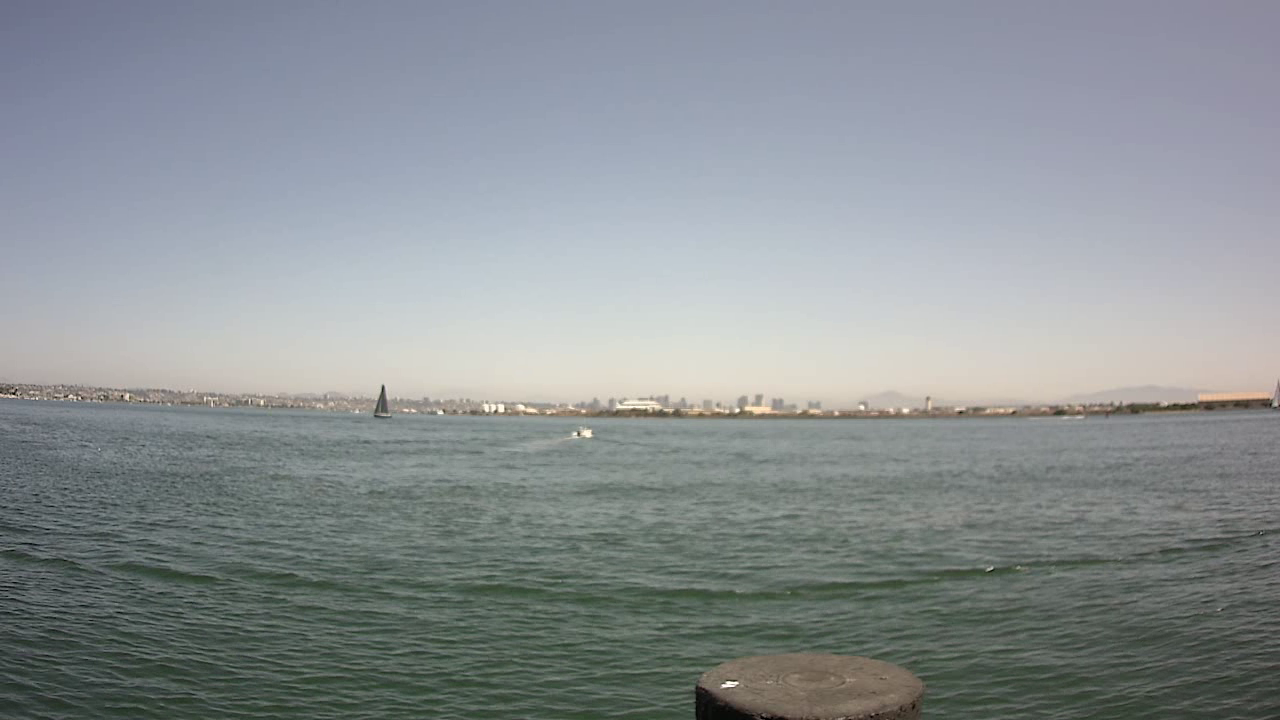target: (567, 419, 601, 443)
